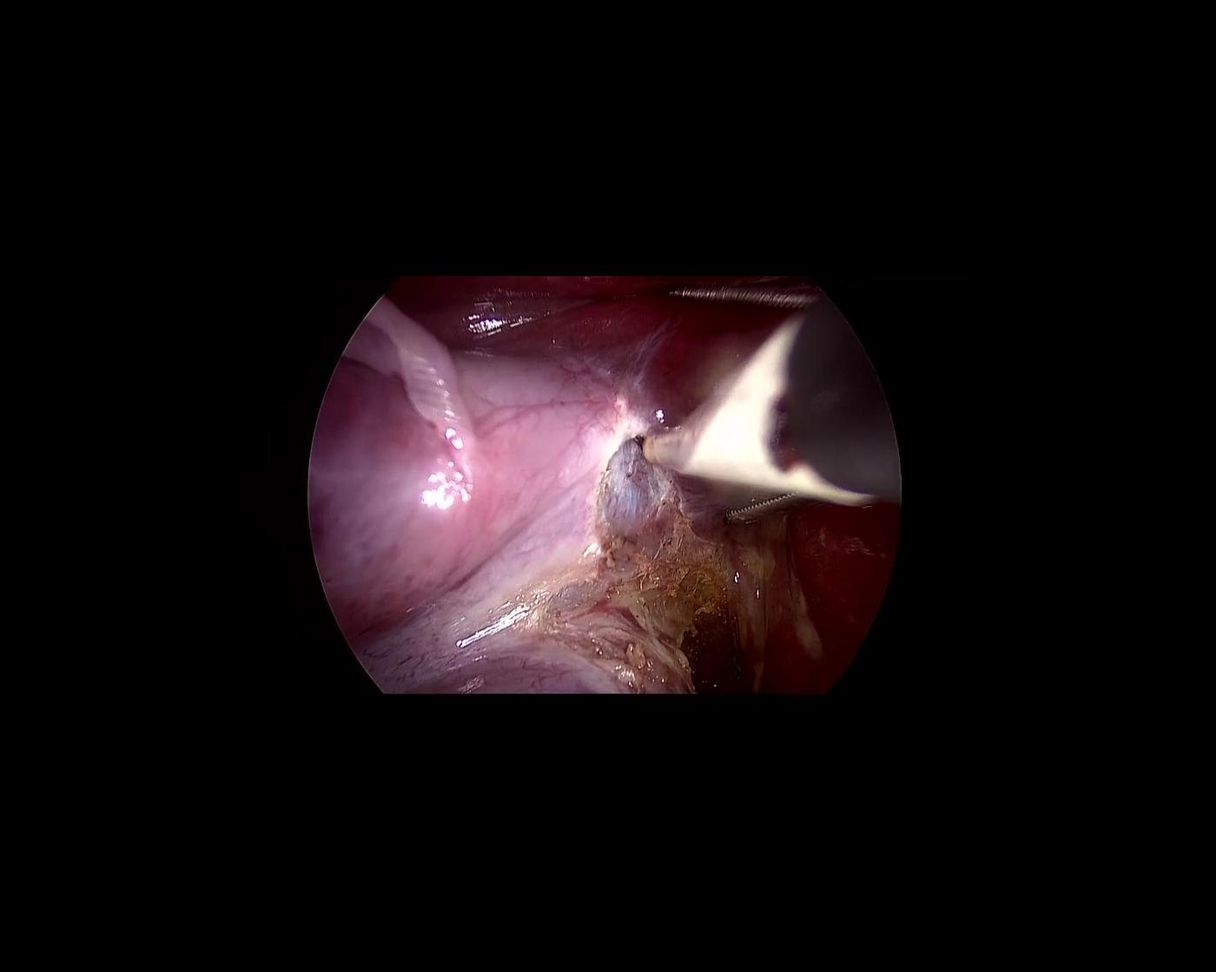Cautery: (620, 295, 945, 614)
Gallbladder: (243, 293, 626, 704)
Liver: (390, 79, 1016, 735)
